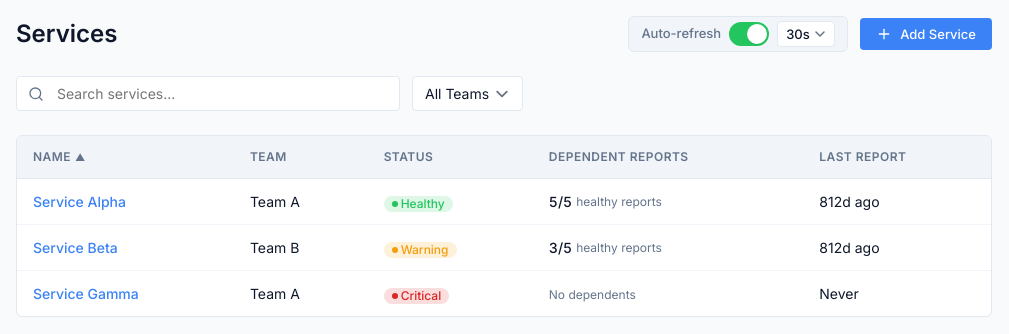
Test: ServicesList › shows empty state when no services match
Expected: the link "Service Alpha" is shown, [33,193,126,210]
Type "nonexistent" into the field with placeholder "Search services...".
click(208, 94); type("nonexistent")  # box [16,76,400,111]
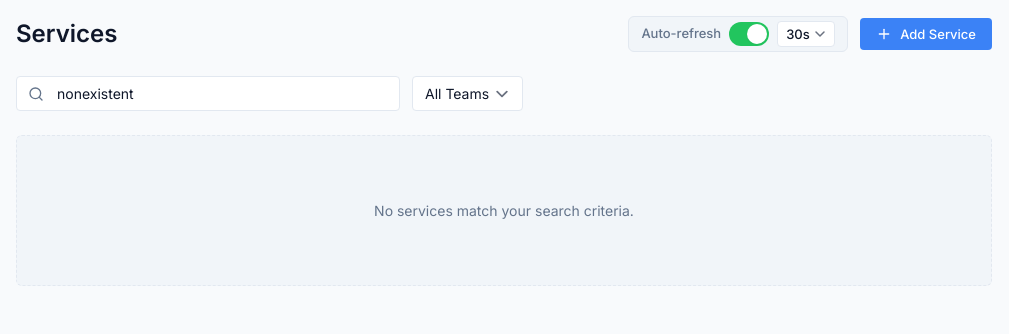
Result: the text "No services match your search criteria." is shown at [374,200,634,221]
